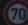Speed Limit -70-: (0, 0, 27, 24)
